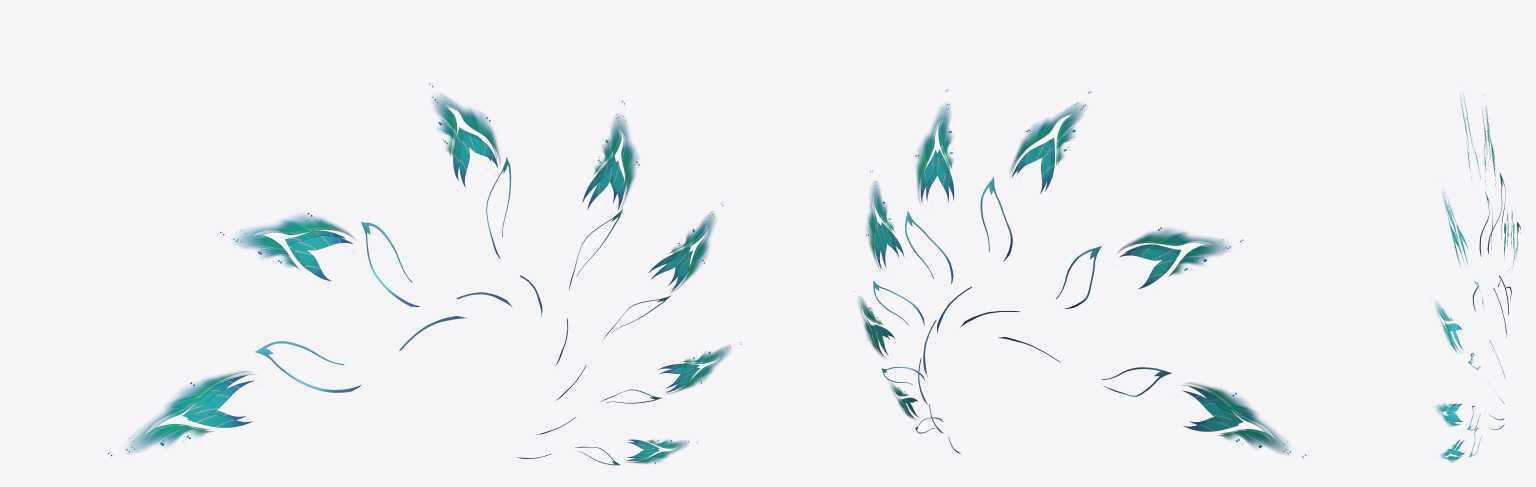
File: Weapon.glb
3 renders of one model, left to right at view 1: azimuth 30°, elevation 25°; view 2: azimuth 150°, elevation 25°; view 3: azimuth 270°, elevation 25°, orthographic. The views are drawn at different scales.
Visible parts, largest first — view 1: yaoguang_00_skill_weapon_LOD0; view 2: yaoguang_00_skill_weapon_LOD0; view 3: yaoguang_00_skill_weapon_LOD0.
Part boxes in pixels (x1,y1,x2,y2): yaoguang_00_skill_weapon_LOD0: (108,83,741,465); yaoguang_00_skill_weapon_LOD0: (853,90,1306,457); yaoguang_00_skill_weapon_LOD0: (1431,81,1520,462).
Bounding box in the file's own units: 1.19 × 0.8236 × 0.2174.
Materials: 1 (1 with a texture image).
